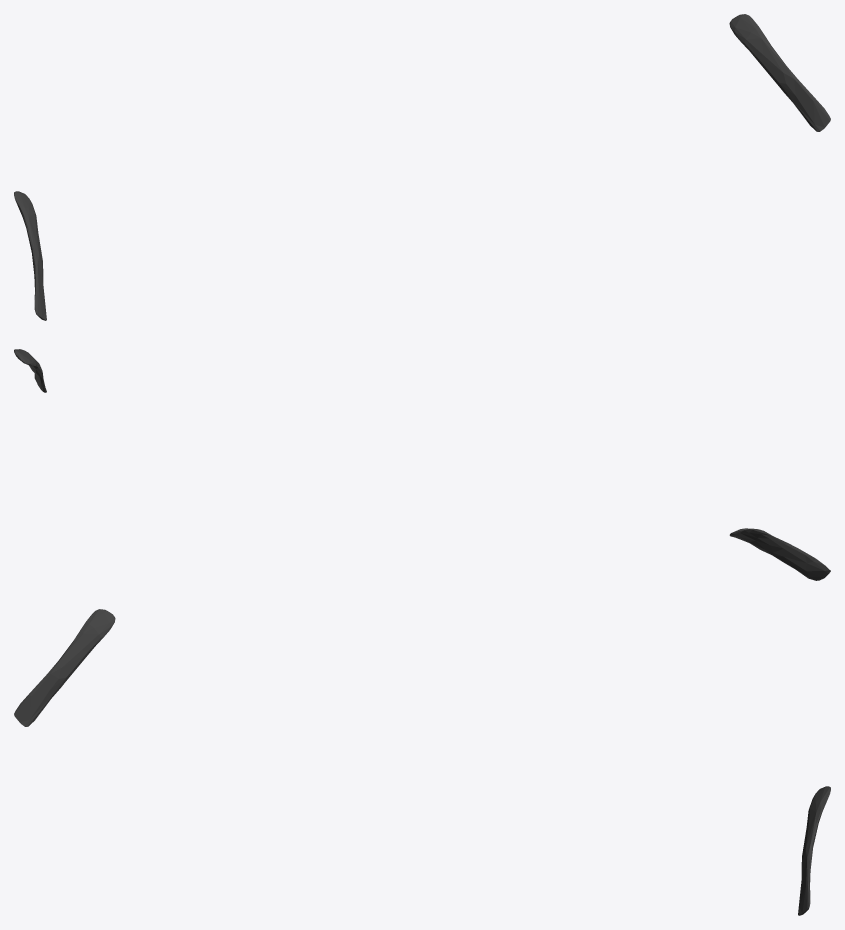
File: lig_accessory_of_4th_carpal.glb
3 renders of one model, top to bottom at view 1: azimuth 30°, elevation 25°; view 2: azimuth 150°, elevation 25°; view 3: azimuth 330°, elevation 25°, orthographic.
Parts seen in each view (by area): view 1: lig_accessory_of_4th_carpal; view 2: lig_accessory_of_4th_carpal; view 3: lig_accessory_of_4th_carpal.
Boxes of the visible parts, x1=… form: lig_accessory_of_4th_carpal: x1=14, y1=14, x2=830, y2=320; lig_accessory_of_4th_carpal: x1=14, y1=349, x2=830, y2=580; lig_accessory_of_4th_carpal: x1=14, y1=609, x2=830, y2=915.
Size of the model in its own units: 0.00456 by 0.000467 by 0.000568.
Materials: 1 (1 with a texture image).
